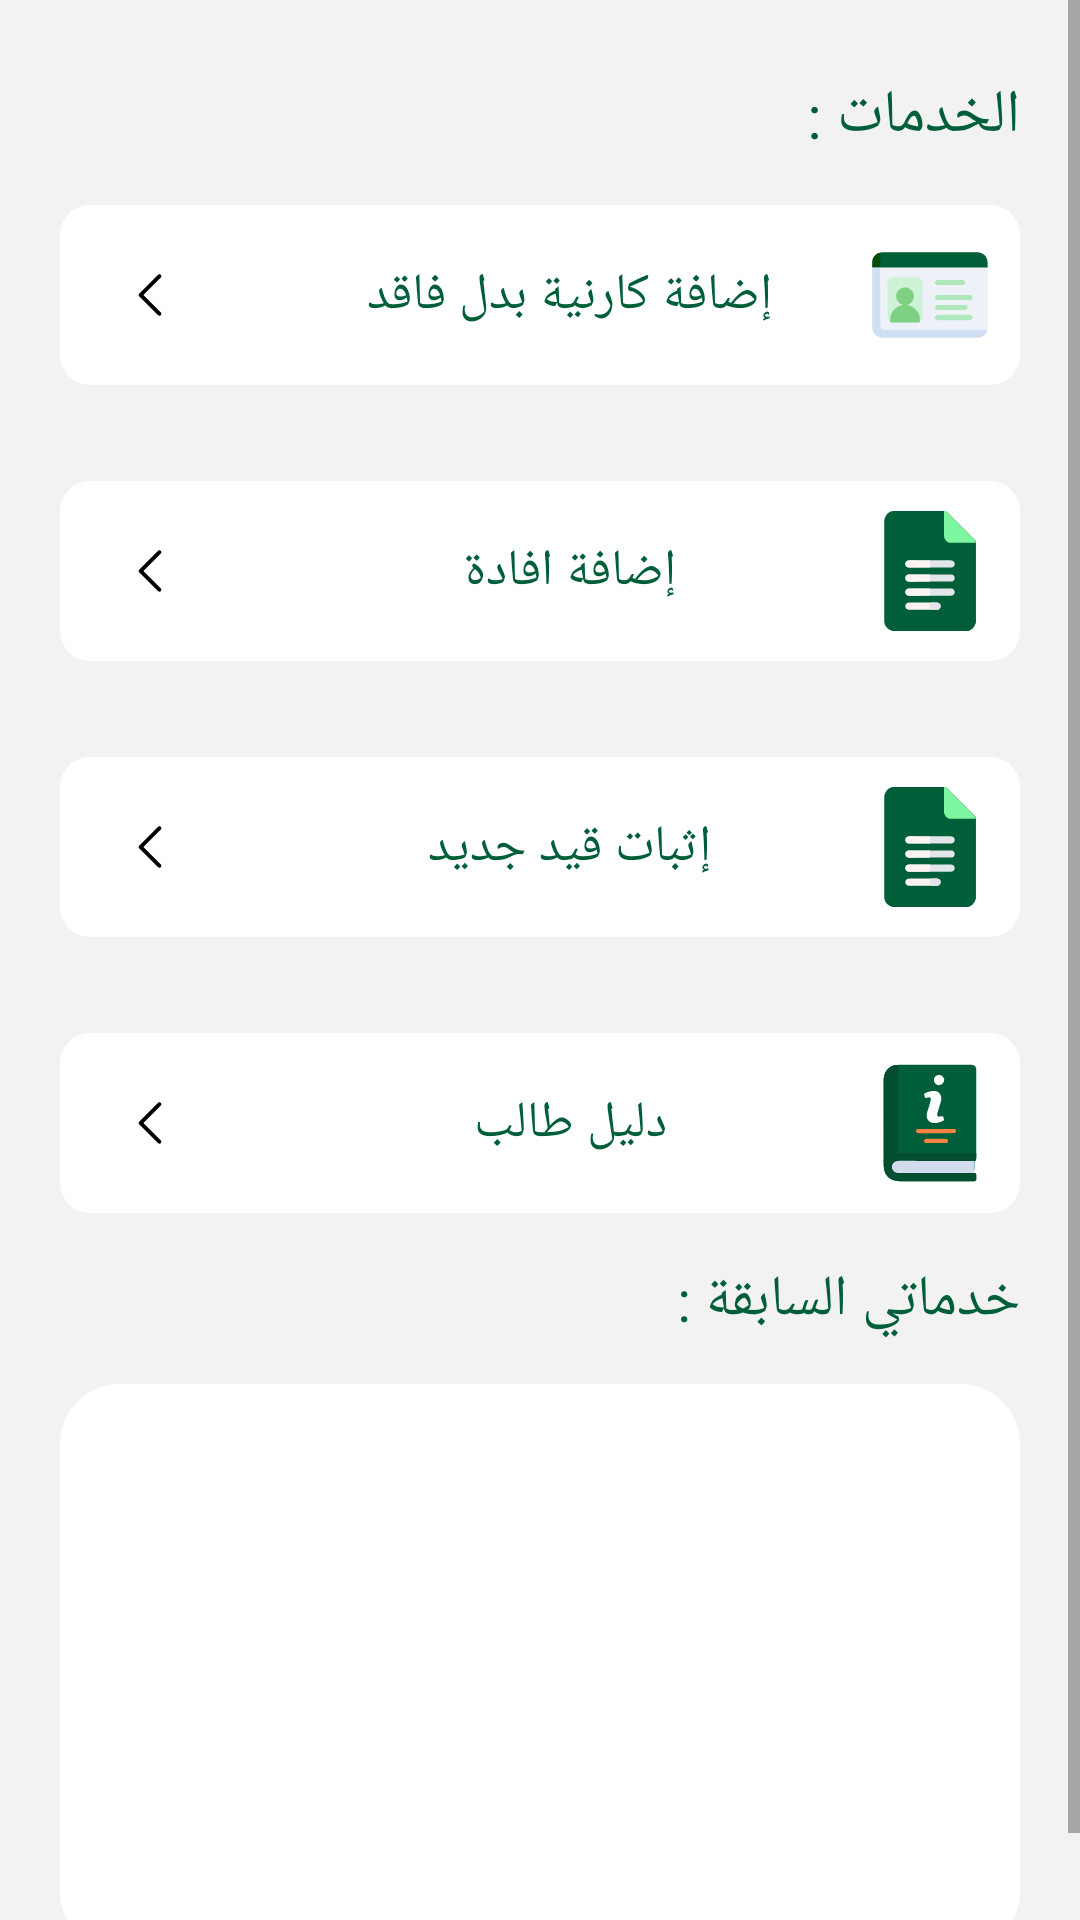

Point at icon controls on the screen. Image size 1080x1920, points as [x,y].
arrow: [150,295], [150,571], [150,847], [150,1123]
docs: [930,571], [930,847]
id card: [930,295]
user guide: [930,1123]
